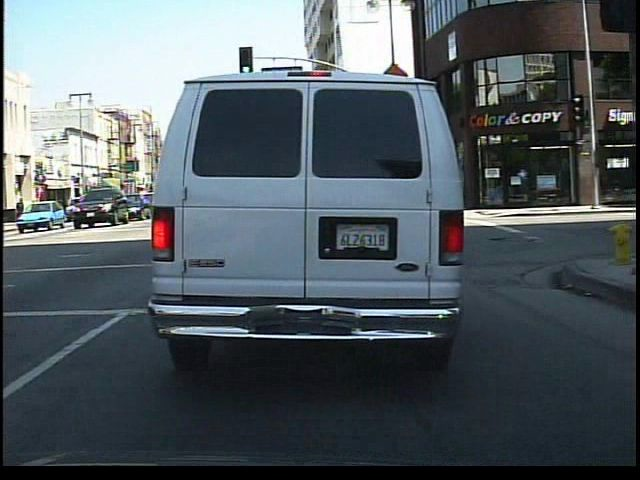person: (12, 195, 29, 226)
